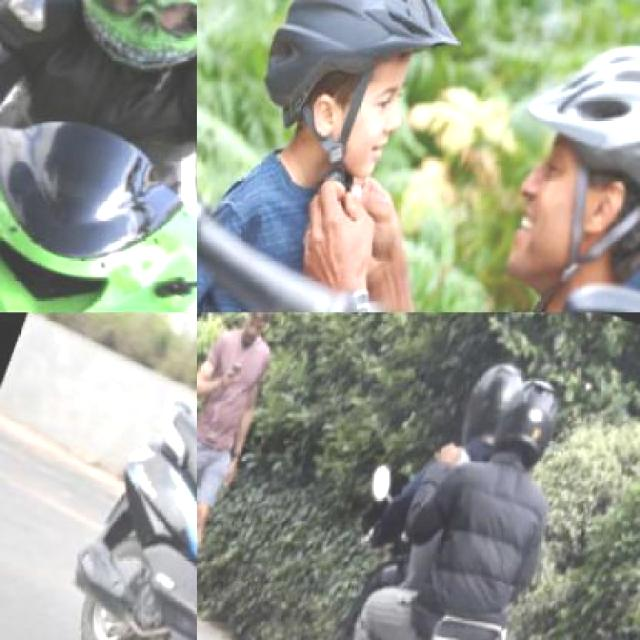With Helmet: (468, 0, 638, 311), (233, 0, 486, 195), (53, 0, 195, 95), (450, 348, 535, 461), (491, 362, 572, 468)
